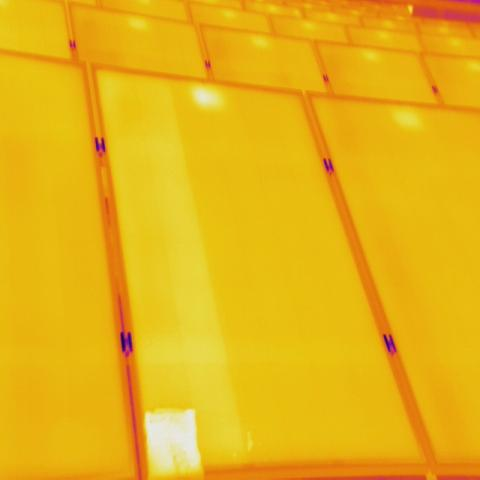fault: (136, 397, 208, 479), (192, 82, 223, 110)
